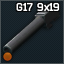Glock 17 9x19 barrel: (0, 0, 64, 64)
